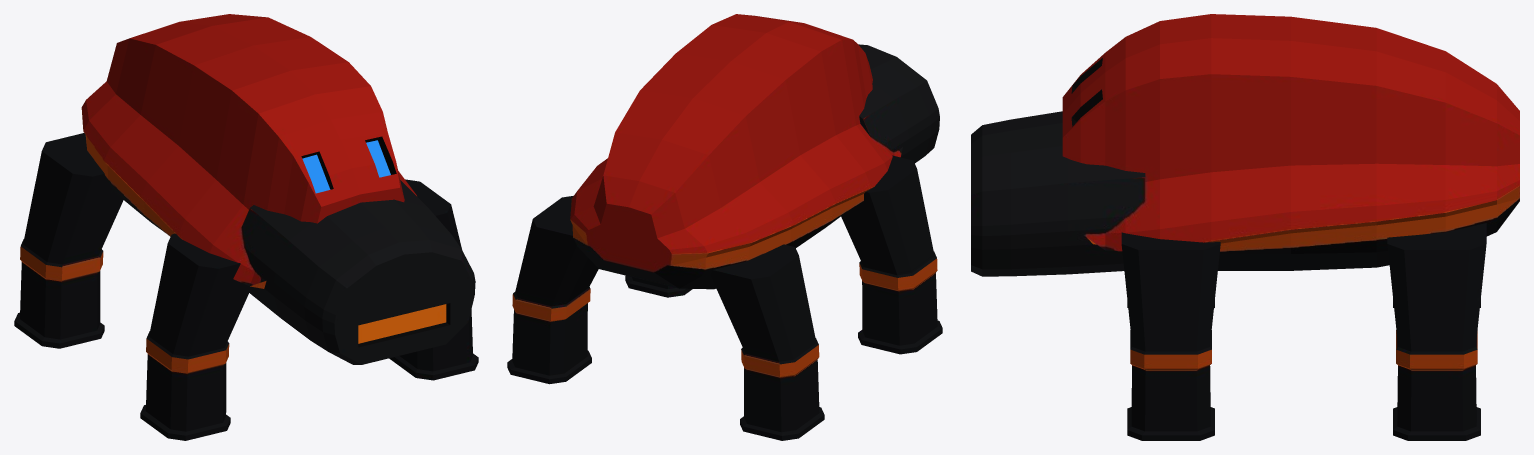
Rendered from Modle_Enemy_Crawler.fbx.
3 renders of one model, left to right at view 1: azimuth 30°, elevation 25°; view 2: azimuth 150°, elevation 25°; view 3: azimuth 270°, elevation 25°, orthographic. The views are drawn at different scales.
Parts seen in each view (by area): view 1: GEO-Enemy-Crawler; view 2: GEO-Enemy-Crawler; view 3: GEO-Enemy-Crawler.
Boxes of the visible parts, x1,y1,x2,y2 form: GEO-Enemy-Crawler: [14, 14, 478, 440]; GEO-Enemy-Crawler: [507, 14, 942, 440]; GEO-Enemy-Crawler: [971, 14, 1519, 440].
Bounding box in the file's own units: 1.47 × 1.39 × 2.14.
7 materials, 7 textured.
